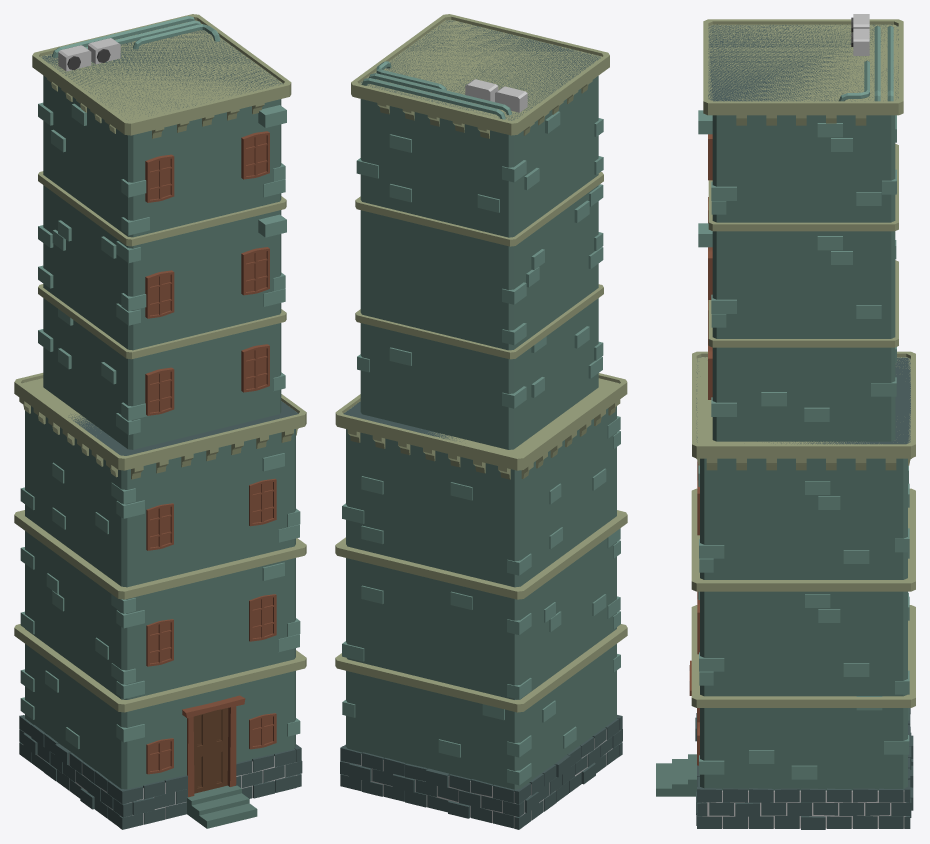
Rendered from 6Story_Stack_Mat.gltf.
The picture shows the model from 3 angles, left to right: view 1: azimuth 30°, elevation 25°; view 2: azimuth 150°, elevation 25°; view 3: azimuth 270°, elevation 25°; orthographic projection. The views are drawn at different scales.
Visible parts, largest first — view 1: 6Story_Stack_Mat; view 2: 6Story_Stack_Mat; view 3: 6Story_Stack_Mat.
Part boxes in pixels (bbox=[...]): 6Story_Stack_Mat: bbox=[14, 14, 306, 829]; 6Story_Stack_Mat: bbox=[335, 14, 627, 829]; 6Story_Stack_Mat: bbox=[656, 14, 915, 829].
Bounding box in the file's own units: 2.16 × 7.8 × 2.5.
